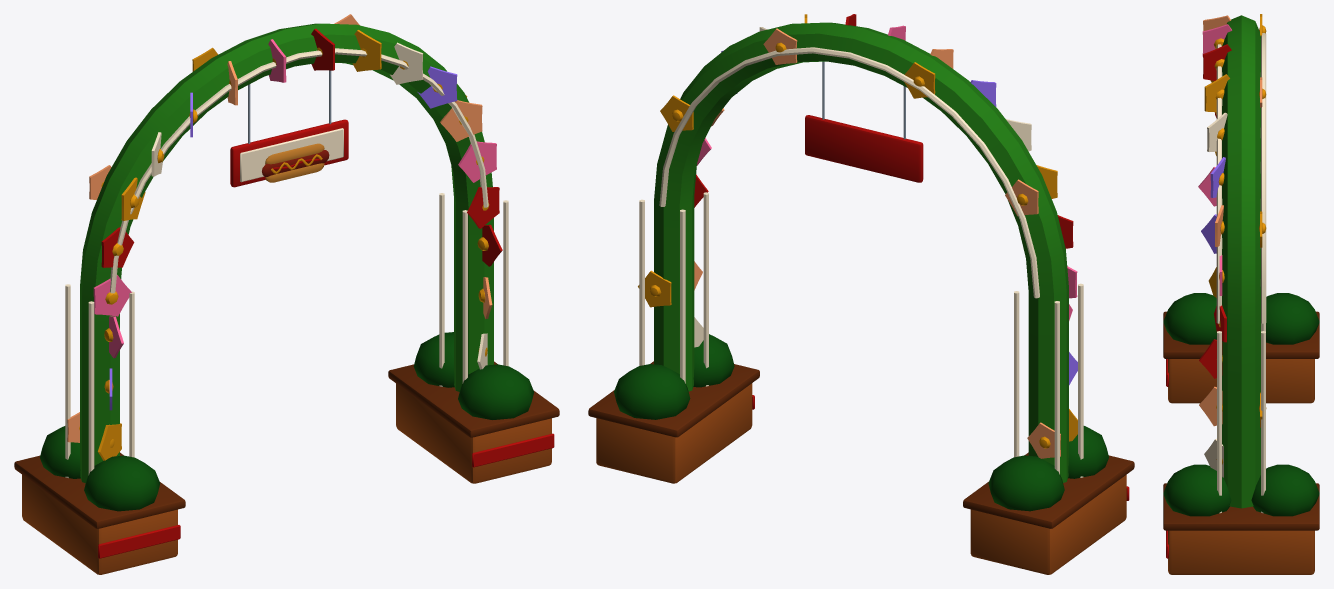
File: FlowerArch.fbx
3 views of the same model, side by side, from view 1: azimuth 30°, elevation 25°; view 2: azimuth 150°, elevation 25°; view 3: azimuth 270°, elevation 25° (orthographic). The views are drawn at different scales.
Visible parts, largest first — view 1: FlowerArch; view 2: FlowerArch; view 3: FlowerArch.
Boxes of the visible parts, x1=… form: FlowerArch: x1=14, y1=14, x2=559, y2=574; FlowerArch: x1=588, y1=14, x2=1134, y2=574; FlowerArch: x1=1163, y1=14, x2=1319, y2=574.
Bounding box in the file's own units: 10.3 × 9.86 × 3.2.
